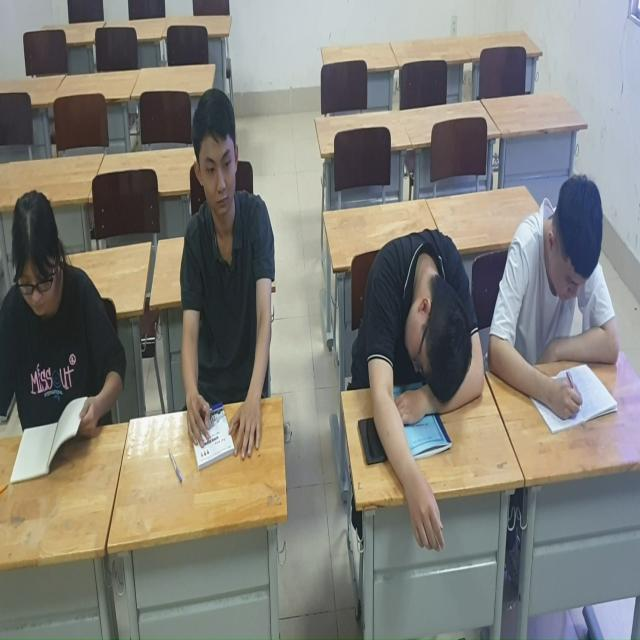read: (1, 187, 128, 485), (484, 165, 623, 429), (177, 82, 277, 447)
sleep: (360, 211, 487, 577)
